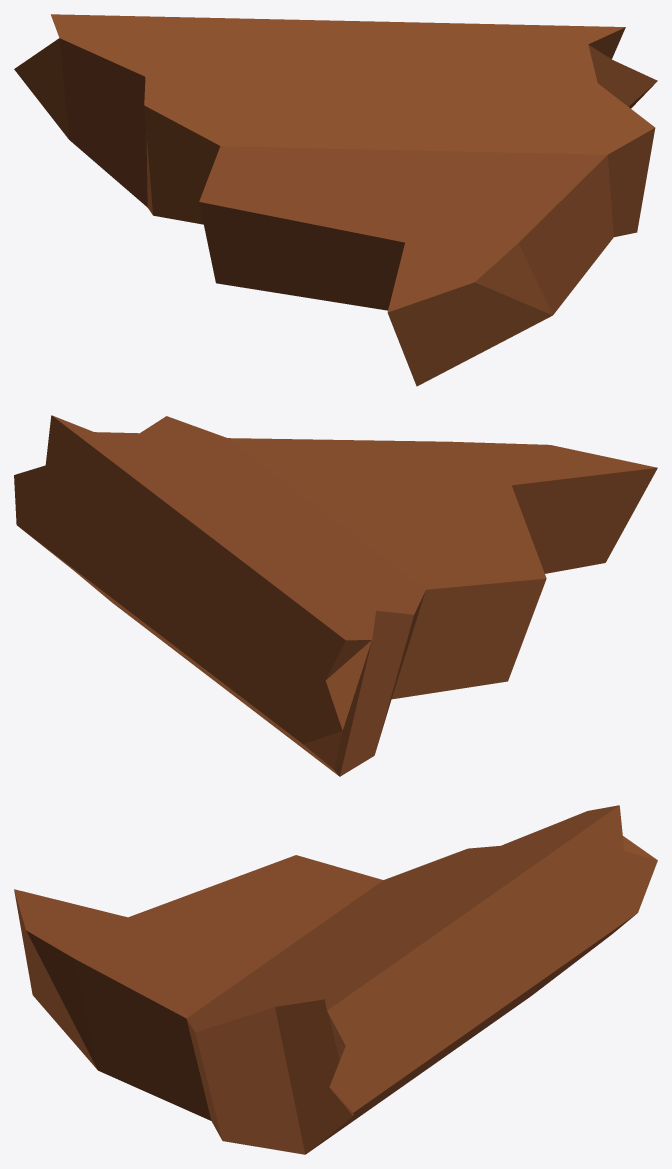
The model's file is Collin_BrokenVase_003_Piece_002.fbx.
3 renders of one model, top to bottom at view 1: azimuth 30°, elevation 25°; view 2: azimuth 150°, elevation 25°; view 3: azimuth 270°, elevation 25°, orthographic. The views are drawn at different scales.
Parts seen in each view (by area): view 1: Broken_Vase_003_BrokenPiece_002; view 2: Broken_Vase_003_BrokenPiece_002; view 3: Broken_Vase_003_BrokenPiece_002.
Boxes of the visible parts, x1,y1,x2,y2 form: Broken_Vase_003_BrokenPiece_002: [14, 14, 657, 386]; Broken_Vase_003_BrokenPiece_002: [14, 415, 657, 776]; Broken_Vase_003_BrokenPiece_002: [14, 805, 657, 1154].
Bounding box in the file's own units: 8.66 × 3.07 × 10.48.
Materials: 1 (1 with a texture image).
